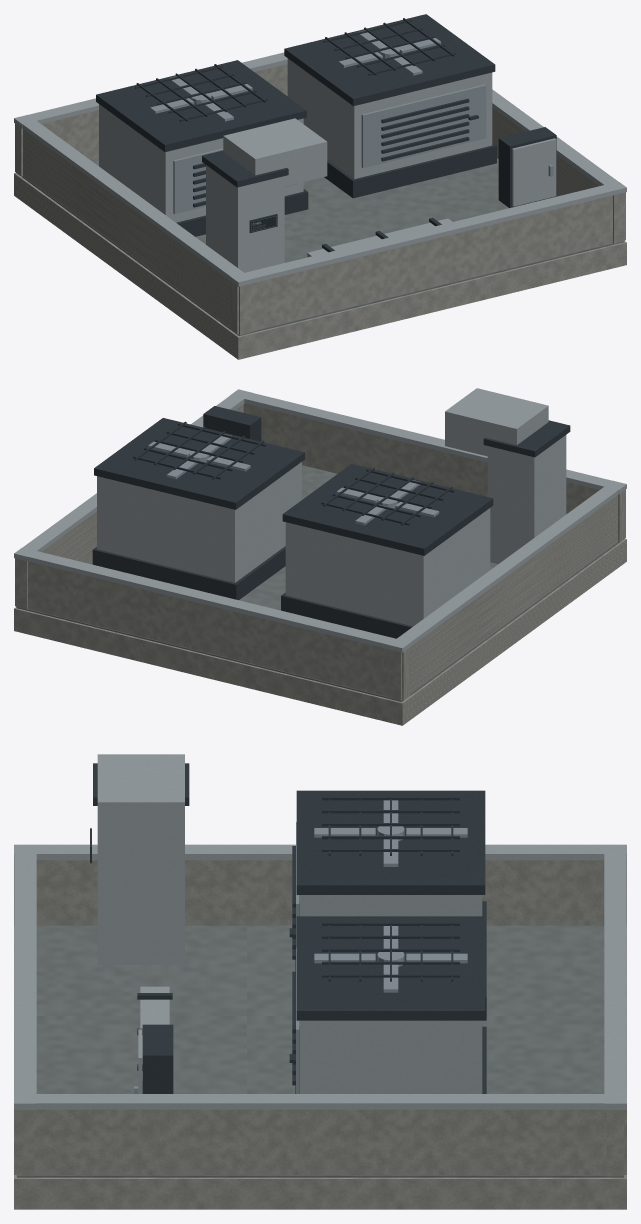
File: PROJECT_Z_Office_Tower_05_RooftopPlant_4x4m_Runtime.glb
3 views of the same model, one above another, from view 1: azimuth 30°, elevation 25°; view 2: azimuth 150°, elevation 25°; view 3: azimuth 270°, elevation 25° (orthographic). The views are drawn at different scales.
Visible parts, largest first — view 1: SM_M05_RooftopPlant_4x4m__BATCH_PARAPET_M_PouredConcreteWarm, SM_M05_RooftopPlant_4x4m__BATCH_COWLING_M_GraphitePowderAlum, SM_M05_RooftopPlant_4x4m__BATCH_ROOF_STRUCTURE_M_PouredConcr, SM_M05_RooftopPlant_4x4m__BATCH_HVAC_HOUSING_M_GalvanizedHVA, SM_M05_RooftopPlant_4x4m__BATCH_COPING_M_GalvanizedHVACSteel, SM_M05_RooftopPlant_4x4m__BATCH_ROOFING_M_GreySinglePlyRoofM, SM_M05_RooftopPlant_4x4m__BATCH_SUPPLY_DUCT_M_GalvanizedHVAC, SM_M05_RooftopPlant_4x4m__BATCH_DUCT_ELBOW_M_GalvanizedHVACS, SM_M05_RooftopPlant_4x4m__AHU2_ServiceDoor, SM_M05_RooftopPlant_4x4m__BATCH_CHASSIS_M_GraphitePowderAlum, SM_M05_RooftopPlant_4x4m__BATCH_GRILLE_M_GraphitePowderAlumi, SM_M05_RooftopPlant_4x4m__BATCH_VENT_LOUVER_M_GraphitePowder (+7 smaller); view 2: SM_M05_RooftopPlant_4x4m__BATCH_PARAPET_M_PouredConcreteWarm, SM_M05_RooftopPlant_4x4m__BATCH_HVAC_HOUSING_M_GalvanizedHVA, SM_M05_RooftopPlant_4x4m__BATCH_COWLING_M_GraphitePowderAlum, SM_M05_RooftopPlant_4x4m__BATCH_ROOF_STRUCTURE_M_PouredConcr, SM_M05_RooftopPlant_4x4m__BATCH_COPING_M_GalvanizedHVACSteel, SM_M05_RooftopPlant_4x4m__BATCH_SUPPLY_DUCT_M_GalvanizedHVAC, SM_M05_RooftopPlant_4x4m__BATCH_CHASSIS_M_GraphitePowderAlum, SM_M05_RooftopPlant_4x4m__BATCH_DUCT_ELBOW_M_GalvanizedHVACS, SM_M05_RooftopPlant_4x4m__BATCH_GRILLE_M_GraphitePowderAlumi, SM_M05_RooftopPlant_4x4m__BATCH_ROOFING_M_GreySinglePlyRoofM, SM_M05_RooftopPlant_4x4m__BATCH_CABINET_M_GraphitePowderAlum, SM_M05_RooftopPlant_4x4m__BATCH_DUCT_FLANGE_M_GraphitePowder (+2 smaller); view 3: SM_M05_RooftopPlant_4x4m__BATCH_PARAPET_M_PouredConcreteWarm, SM_M05_RooftopPlant_4x4m__BATCH_ROOFING_M_GreySinglePlyRoofM, SM_M05_RooftopPlant_4x4m__BATCH_COWLING_M_GraphitePowderAlum, SM_M05_RooftopPlant_4x4m__BATCH_COPING_M_GalvanizedHVACSteel, SM_M05_RooftopPlant_4x4m__BATCH_ROOF_STRUCTURE_M_PouredConcr, SM_M05_RooftopPlant_4x4m__BATCH_HVAC_HOUSING_M_GalvanizedHVA, SM_M05_RooftopPlant_4x4m__BATCH_SUPPLY_DUCT_M_GalvanizedHVAC, SM_M05_RooftopPlant_4x4m__BATCH_DUCT_ELBOW_M_GalvanizedHVACS, SM_M05_RooftopPlant_4x4m__BATCH_GRILLE_M_GraphitePowderAlumi, SM_M05_RooftopPlant_4x4m__BATCH_CABINET_M_GraphitePowderAlum, SM_M05_RooftopPlant_4x4m__AHU2_Independent_Rotor, SM_M05_RooftopPlant_4x4m__AHU1_Independent_Rotor (+3 smaller).
Part boxes in pixels (<box>): SM_M05_RooftopPlant_4x4m__BATCH_PARAPET_M_PouredConcreteWarm: <box>15,64,625,334</box>; SM_M05_RooftopPlant_4x4m__BATCH_COWLING_M_GraphitePowderAlum: <box>96,14,495,151</box>; SM_M05_RooftopPlant_4x4m__BATCH_ROOF_STRUCTURE_M_PouredConcr: <box>14,173,626,359</box>; SM_M05_RooftopPlant_4x4m__BATCH_HVAC_HOUSING_M_GalvanizedHVA: <box>99,58,492,222</box>; SM_M05_RooftopPlant_4x4m__BATCH_COPING_M_GalvanizedHVACSteel: <box>14,52,626,286</box>; SM_M05_RooftopPlant_4x4m__BATCH_ROOFING_M_GreySinglePlyRoofM: <box>22,158,623,335</box>; SM_M05_RooftopPlant_4x4m__BATCH_SUPPLY_DUCT_M_GalvanizedHVAC: <box>206,165,284,272</box>; SM_M05_RooftopPlant_4x4m__BATCH_DUCT_ELBOW_M_GalvanizedHVACS: <box>223,118,327,193</box>; SM_M05_RooftopPlant_4x4m__AHU2_ServiceDoor: <box>361,84,486,168</box>; SM_M05_RooftopPlant_4x4m__BATCH_CHASSIS_M_GraphitePowderAlum: <box>176,143,496,236</box>; SM_M05_RooftopPlant_4x4m__BATCH_GRILLE_M_GraphitePowderAlumi: <box>135,18,456,121</box>; SM_M05_RooftopPlant_4x4m__BATCH_VENT_LOUVER_M_GraphitePowder: <box>193,98,469,207</box>; SM_M05_RooftopPlant_4x4m__BATCH_PARAPET_M_PouredConcreteWarm: <box>15,403,625,700</box>; SM_M05_RooftopPlant_4x4m__BATCH_HVAC_HOUSING_M_GalvanizedHVA: <box>97,462,490,626</box>; SM_M05_RooftopPlant_4x4m__BATCH_COWLING_M_GraphitePowderAlum: <box>94,418,493,555</box>; SM_M05_RooftopPlant_4x4m__BATCH_ROOF_STRUCTURE_M_PouredConcr: <box>14,539,626,725</box>; SM_M05_RooftopPlant_4x4m__BATCH_COPING_M_GalvanizedHVACSteel: <box>14,389,626,652</box>; SM_M05_RooftopPlant_4x4m__BATCH_SUPPLY_DUCT_M_GalvanizedHVAC: <box>487,435,566,564</box>; SM_M05_RooftopPlant_4x4m__BATCH_CHASSIS_M_GraphitePowderAlum: <box>92,546,412,638</box>; SM_M05_RooftopPlant_4x4m__BATCH_DUCT_ELBOW_M_GalvanizedHVACS: <box>445,388,548,463</box>; SM_M05_RooftopPlant_4x4m__BATCH_GRILLE_M_GraphitePowderAlumi: <box>133,421,454,525</box>; SM_M05_RooftopPlant_4x4m__BATCH_ROOFING_M_GreySinglePlyRoofM: <box>17,465,619,701</box>; SM_M05_RooftopPlant_4x4m__BATCH_CABINET_M_GraphitePowderAlum: <box>203,406,261,441</box>; SM_M05_RooftopPlant_4x4m__BATCH_DUCT_FLANGE_M_GraphitePowder: <box>483,420,570,457</box>; SM_M05_RooftopPlant_4x4m__BATCH_PARAPET_M_PouredConcreteWarm: <box>14,860,626,1176</box>; SM_M05_RooftopPlant_4x4m__BATCH_ROOFING_M_GreySinglePlyRoofM: <box>17,925,623,1177</box>; SM_M05_RooftopPlant_4x4m__BATCH_COWLING_M_GraphitePowderAlum: <box>296,790,485,1020</box>; SM_M05_RooftopPlant_4x4m__BATCH_COPING_M_GalvanizedHVACSteel: <box>14,844,626,1109</box>; SM_M05_RooftopPlant_4x4m__BATCH_ROOF_STRUCTURE_M_PouredConcr: <box>14,926,626,1209</box>; SM_M05_RooftopPlant_4x4m__BATCH_HVAC_HOUSING_M_GalvanizedHVA: <box>299,895,482,1093</box>; SM_M05_RooftopPlant_4x4m__BATCH_SUPPLY_DUCT_M_GalvanizedHVAC: <box>97,849,184,964</box>; SM_M05_RooftopPlant_4x4m__BATCH_DUCT_ELBOW_M_GalvanizedHVACS: <box>97,754,184,849</box>; SM_M05_RooftopPlant_4x4m__BATCH_GRILLE_M_GraphitePowderAlumi: <box>322,795,459,981</box>; SM_M05_RooftopPlant_4x4m__BATCH_CABINET_M_GraphitePowderAlum: <box>142,1024,173,1093</box>; SM_M05_RooftopPlant_4x4m__AHU2_Independent_Rotor: <box>314,926,467,992</box>; SM_M05_RooftopPlant_4x4m__AHU1_Independent_Rotor: <box>314,800,467,866</box>.
Size of the model in its own units: 4 by 1.64 by 4.
Materials: 7 (7 with a texture image).
